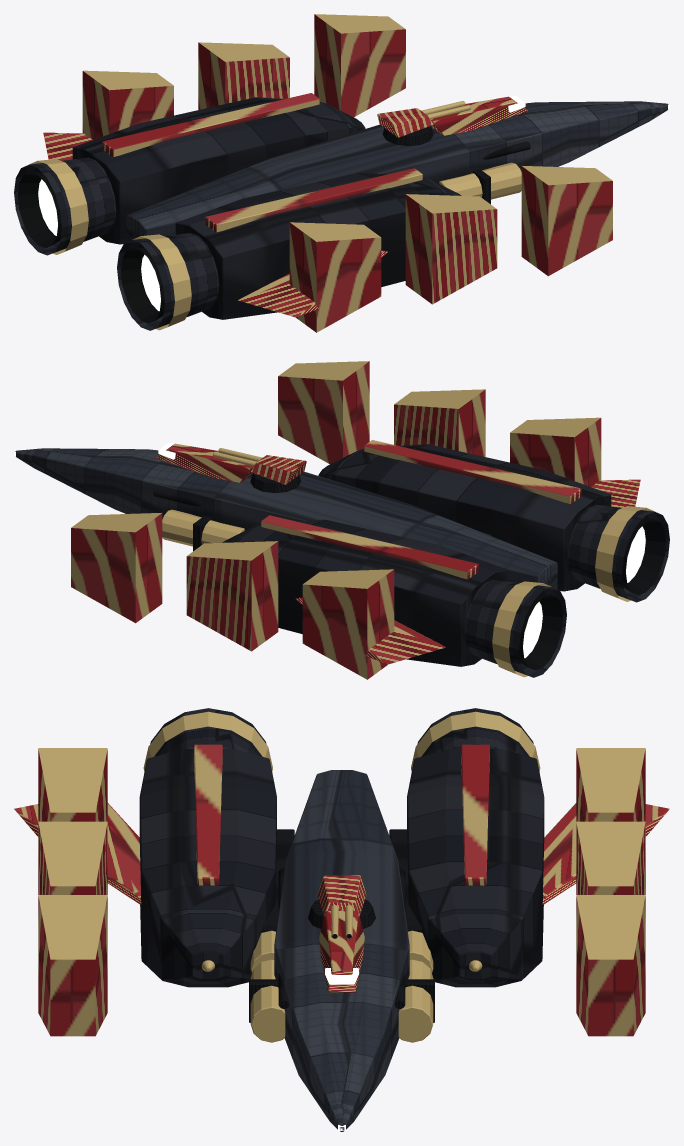
File: corvette.glb
3 views of the same model, one above another, from view 1: azimuth 30°, elevation 25°; view 2: azimuth 150°, elevation 25°; view 3: azimuth 270°, elevation 25° (orthographic). The views are drawn at different scales.
Parts seen in each view (by area): view 1: corvette; view 2: corvette; view 3: corvette.
Boxes of the visible parts, left/top/right/bottom form: corvette: left=14, top=14, right=669, bottom=332; corvette: left=14, top=361, right=669, bottom=679; corvette: left=14, top=708, right=669, bottom=1131.
Bounding box in the file's own units: 20 × 3.57 × 15.11.
Materials: 1 (1 with a texture image).
